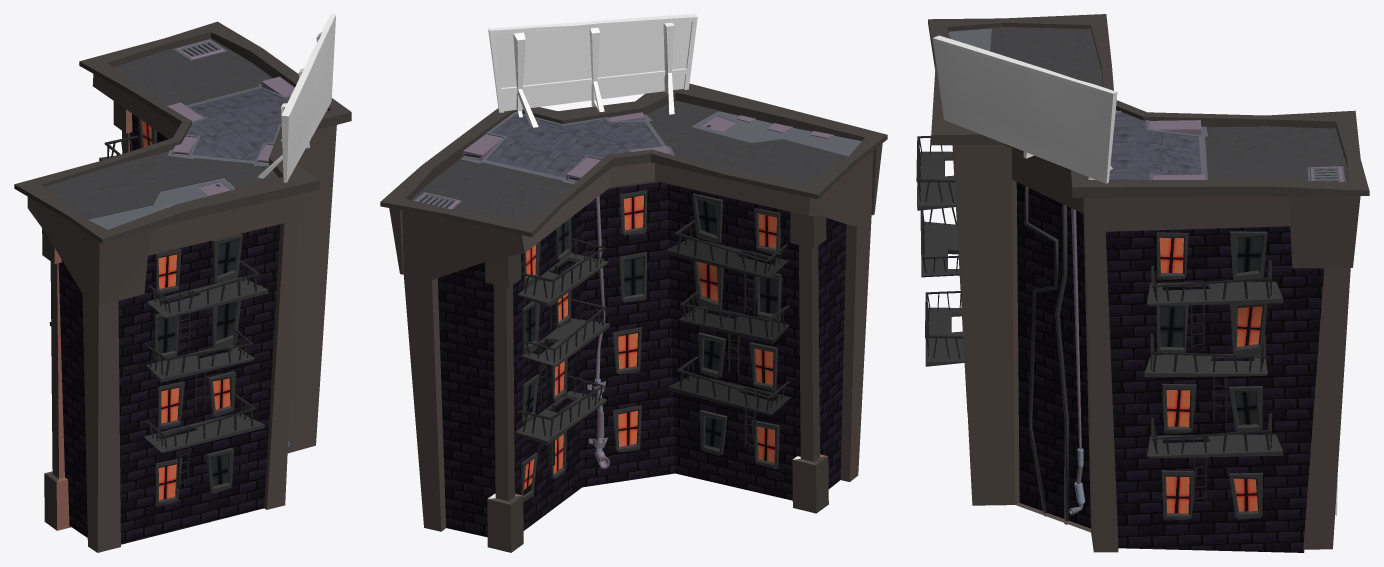
Rendered from hecks_kitchen_tile_nunchucks_LO.fbx.
3 views of the same model, side by side, from view 1: azimuth 30°, elevation 25°; view 2: azimuth 150°, elevation 25°; view 3: azimuth 270°, elevation 25° (orthographic). The views are drawn at different scales.
Visible parts, largest first — view 1: hecks_kitchen_tile_nunchucks_LO, Hecks_Kitchen_Nunchucks_windowz_LO, Hecks_Kitchen_Nunchucks_sign; view 2: hecks_kitchen_tile_nunchucks_LO, Hecks_Kitchen_Nunchucks_windowz_LO, Hecks_Kitchen_Nunchucks_sign; view 3: hecks_kitchen_tile_nunchucks_LO, Hecks_Kitchen_Nunchucks_windowz_LO, Hecks_Kitchen_Nunchucks_sign.
Part boxes in pixels (left/top/right/bottom): hecks_kitchen_tile_nunchucks_LO: left=14, top=21, right=351, bottom=552; Hecks_Kitchen_Nunchucks_windowz_LO: left=49, top=118, right=268, bottom=506; Hecks_Kitchen_Nunchucks_sign: left=258, top=14, right=335, bottom=182; hecks_kitchen_tile_nunchucks_LO: left=380, top=83, right=887, bottom=552; Hecks_Kitchen_Nunchucks_windowz_LO: left=515, top=190, right=791, bottom=502; Hecks_Kitchen_Nunchucks_sign: left=488, top=14, right=697, bottom=127; hecks_kitchen_tile_nunchucks_LO: left=928, top=14, right=1369, bottom=552; Hecks_Kitchen_Nunchucks_windowz_LO: left=916, top=135, right=1283, bottom=520; Hecks_Kitchen_Nunchucks_sign: left=933, top=35, right=1117, bottom=183.
Bounding box in the file's own units: 39.76 × 48.3 × 41.22.
8 materials, 5 textured.
